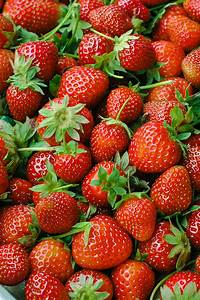Fresa: (124, 116, 188, 178), (71, 211, 136, 272), (34, 92, 96, 151), (134, 217, 191, 276), (144, 162, 197, 218), (26, 233, 77, 286), (80, 157, 130, 210), (112, 190, 160, 245), (56, 62, 113, 107), (11, 35, 61, 84), (33, 190, 84, 237), (88, 113, 134, 163), (113, 29, 162, 75), (47, 137, 95, 183), (110, 254, 157, 300), (5, 75, 49, 124), (97, 82, 146, 125), (134, 96, 194, 130), (85, 2, 138, 40), (1, 200, 41, 249), (64, 265, 116, 300)
